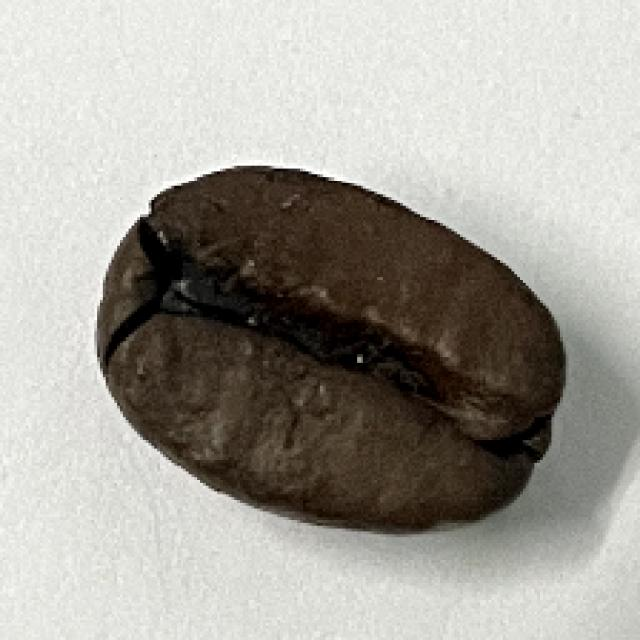bean: (89, 163, 566, 534)
